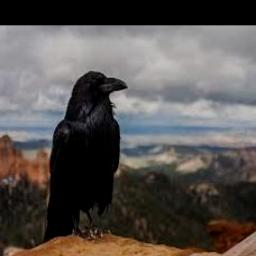Crow: (44, 70, 128, 242)
